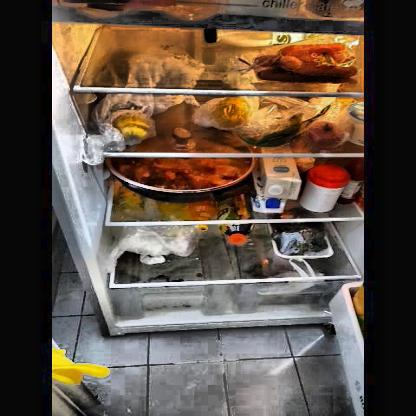broccoli: (270, 221, 332, 254)
carrot: (256, 44, 356, 80)
green_chillies: (236, 129, 304, 144)
lemon: (213, 97, 253, 127), (113, 112, 150, 140)
milk: (255, 159, 297, 213), (204, 28, 306, 45)
tomato: (303, 121, 345, 148)
yoghurt: (346, 102, 366, 146)
